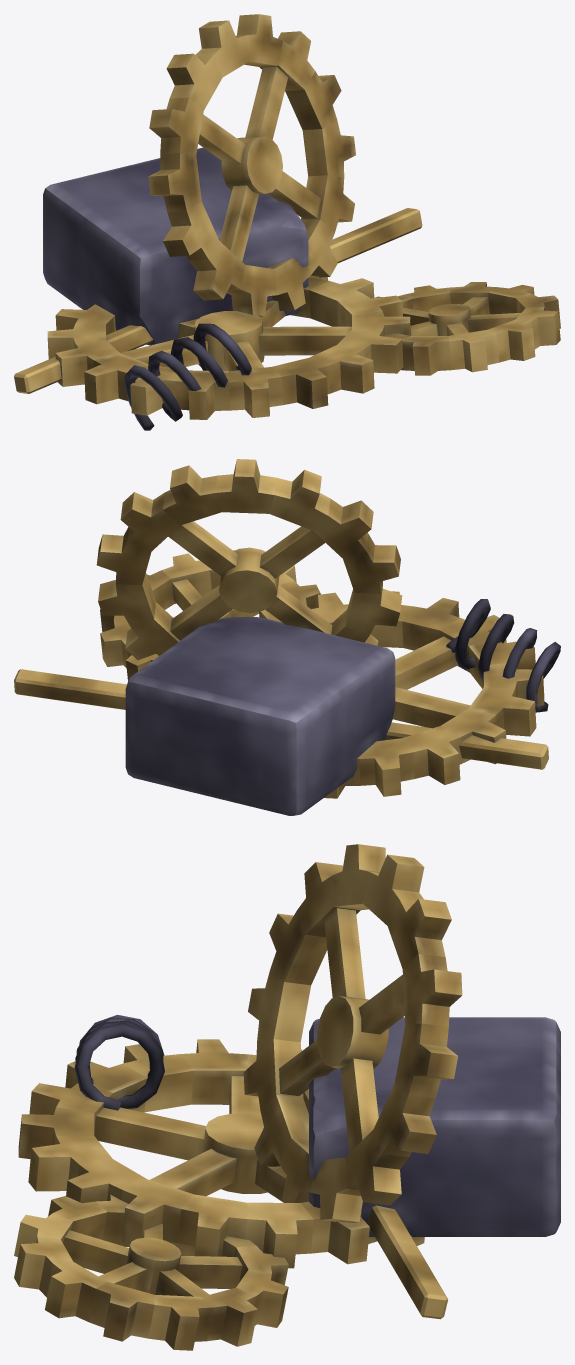
Rendered from Promenade_Prop_A.fbx.
3 views of the same model, one above another, from view 1: azimuth 30°, elevation 25°; view 2: azimuth 150°, elevation 25°; view 3: azimuth 270°, elevation 25° (orthographic). The views are drawn at different scales.
Parts seen in each view (by area): view 1: Promenade_Prop_A; view 2: Promenade_Prop_A; view 3: Promenade_Prop_A.
Boxes of the visible parts, box(x1,y1,x2,y2) form: Promenade_Prop_A: box(14, 14, 560, 430); Promenade_Prop_A: box(14, 459, 560, 815); Promenade_Prop_A: box(14, 844, 560, 1350).
Size of the model in its own units: 1.09 by 0.6496 by 0.868.
